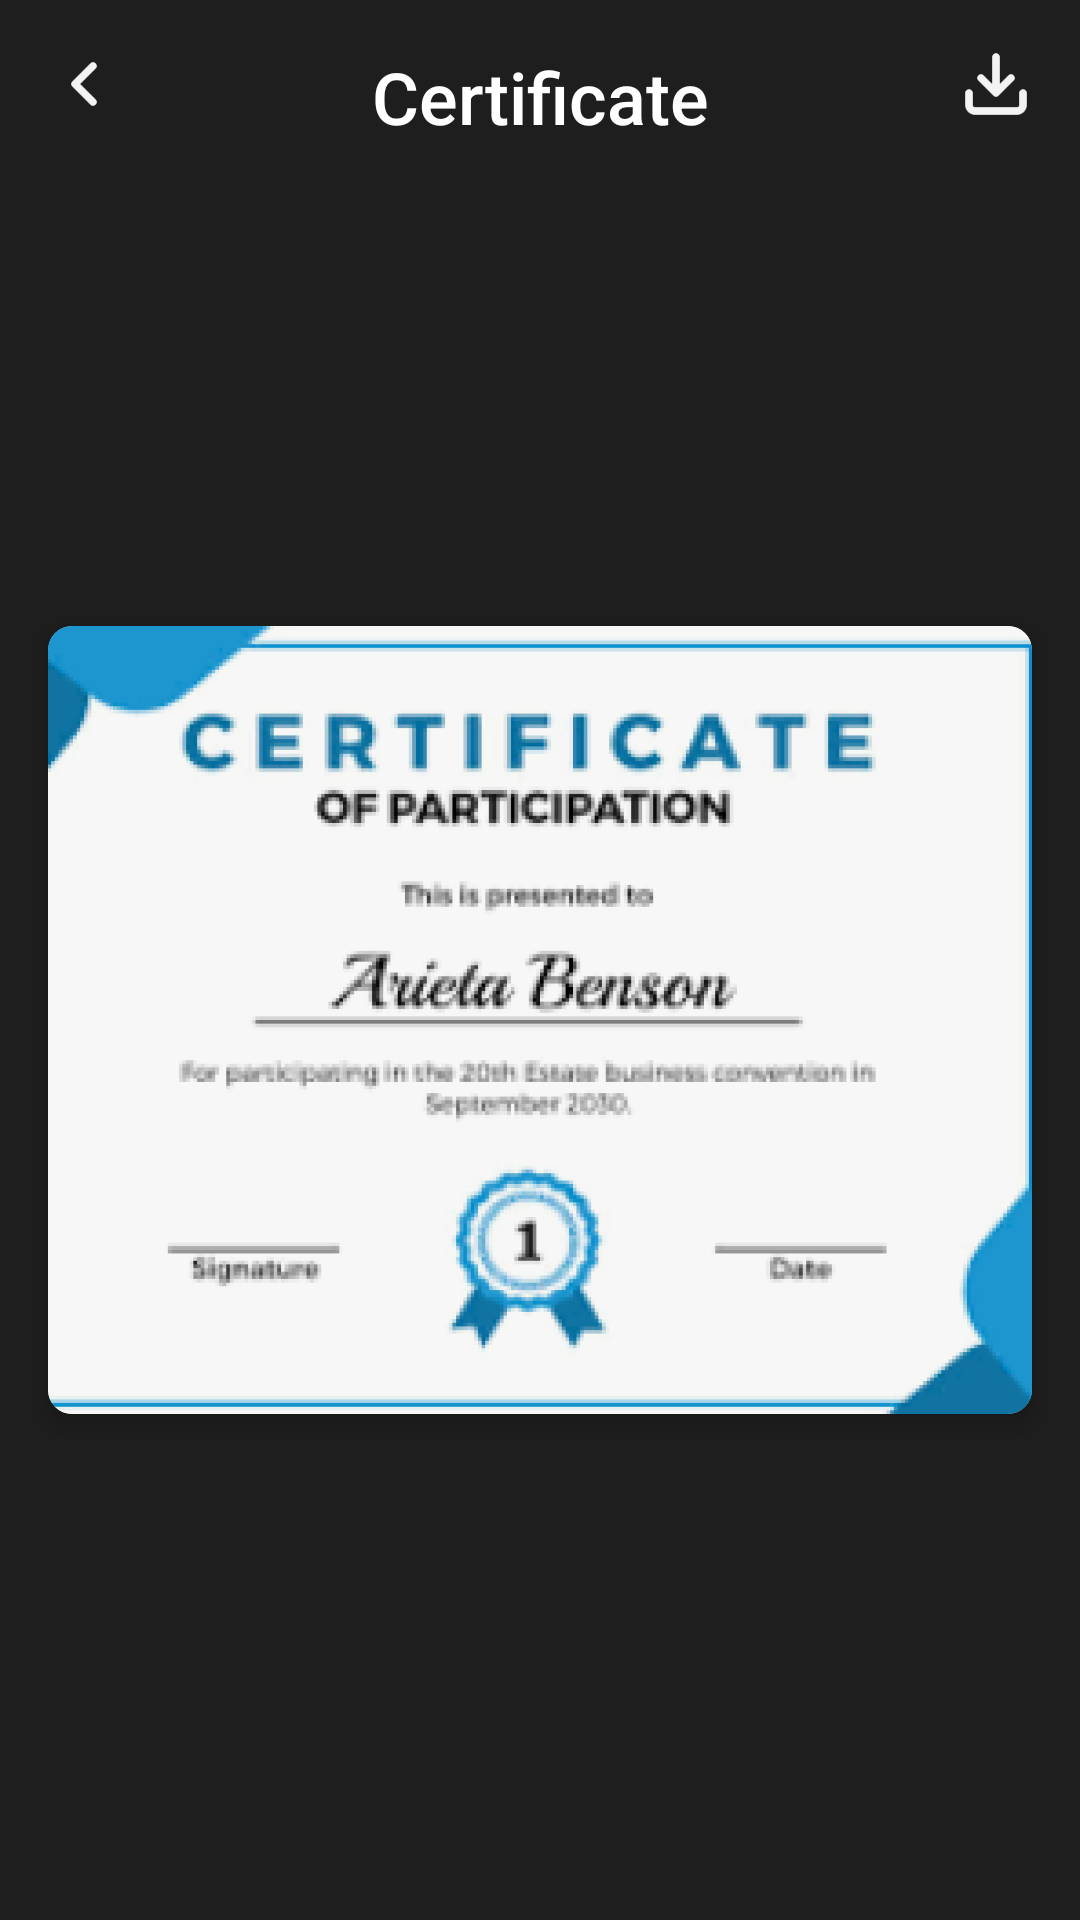

Screen size 1080px x 1920px. Icon name, then its box in pixels as (x1, y1, x2, y2):
Back Icon: (71, 62, 97, 106)
Download Icon: (965, 53, 1027, 115)
